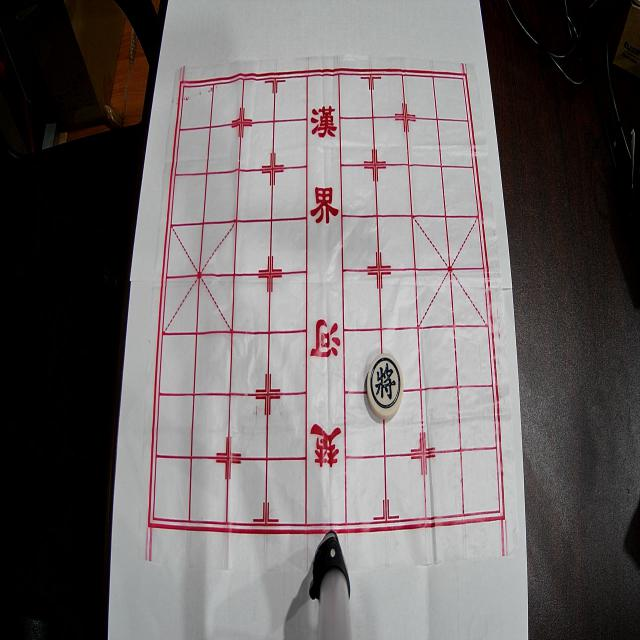black-general: (367, 353, 403, 419)
